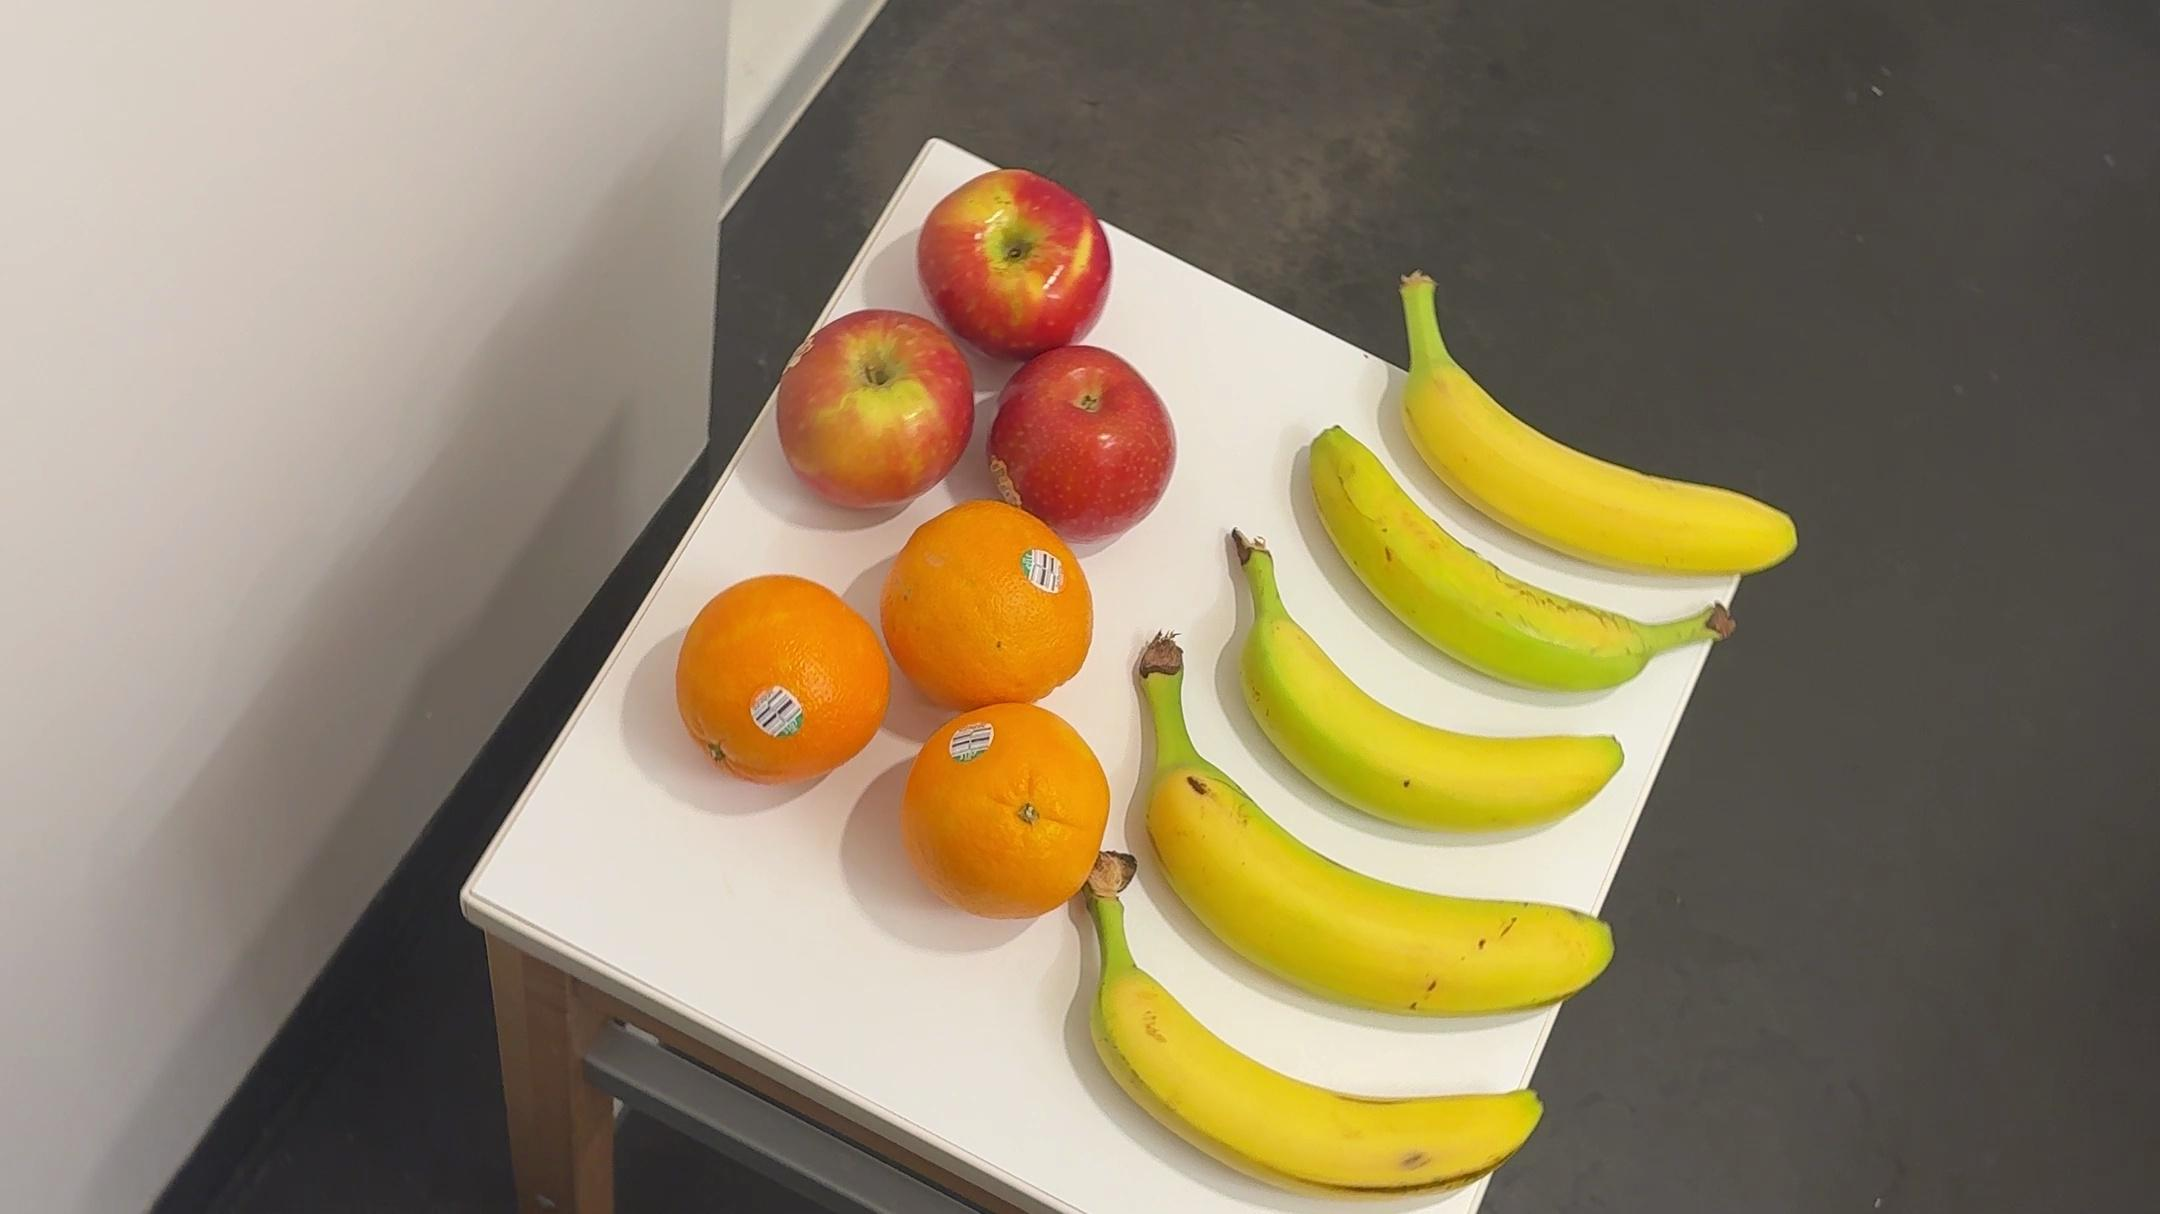apple: (978, 347, 1185, 548), (780, 313, 970, 514), (915, 157, 1110, 350)
banana: (1111, 634, 1616, 1021), (1050, 850, 1565, 1207), (1392, 272, 1810, 603), (1208, 528, 1624, 839), (1289, 427, 1740, 714)
orange: (898, 695, 1108, 934), (681, 571, 895, 795), (875, 499, 1092, 711)
